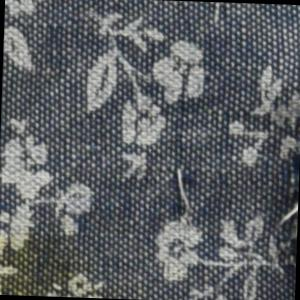Damage: (264, 94, 300, 300), (168, 157, 202, 234)
Stain: (1, 222, 109, 299)
